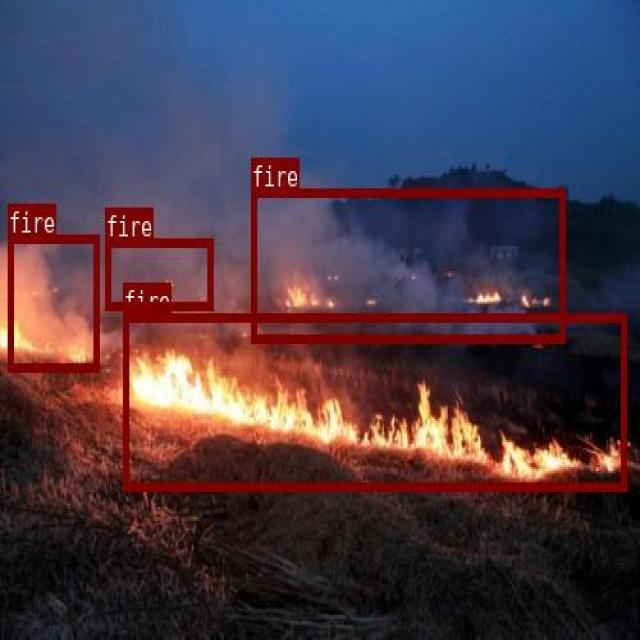fire: (123, 313, 625, 488), (250, 188, 563, 342), (7, 235, 98, 370), (104, 237, 212, 309)
